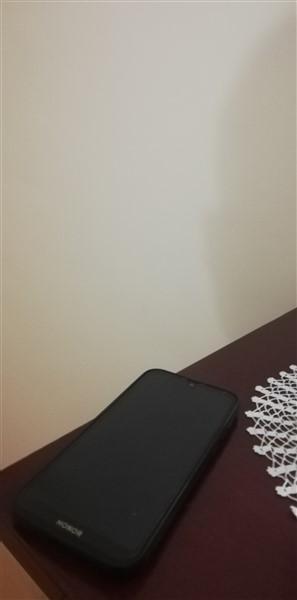telefon: (9, 352, 249, 587)
